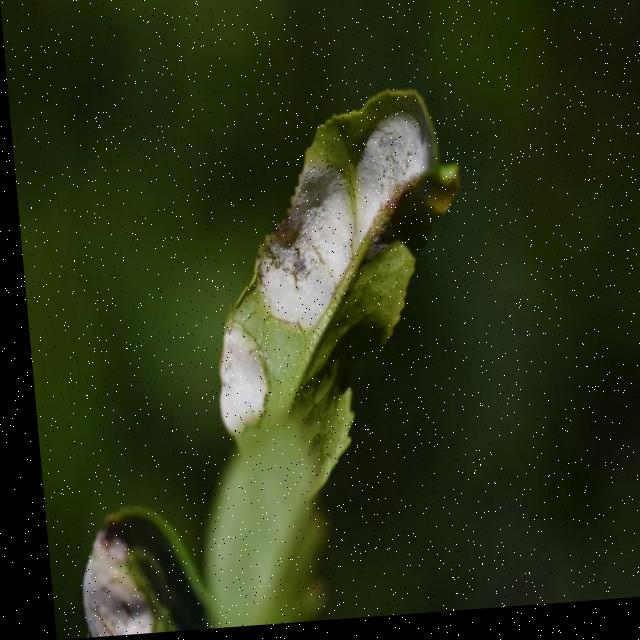Tea cake: (244, 170, 359, 329), (354, 94, 428, 220), (197, 330, 267, 431)
